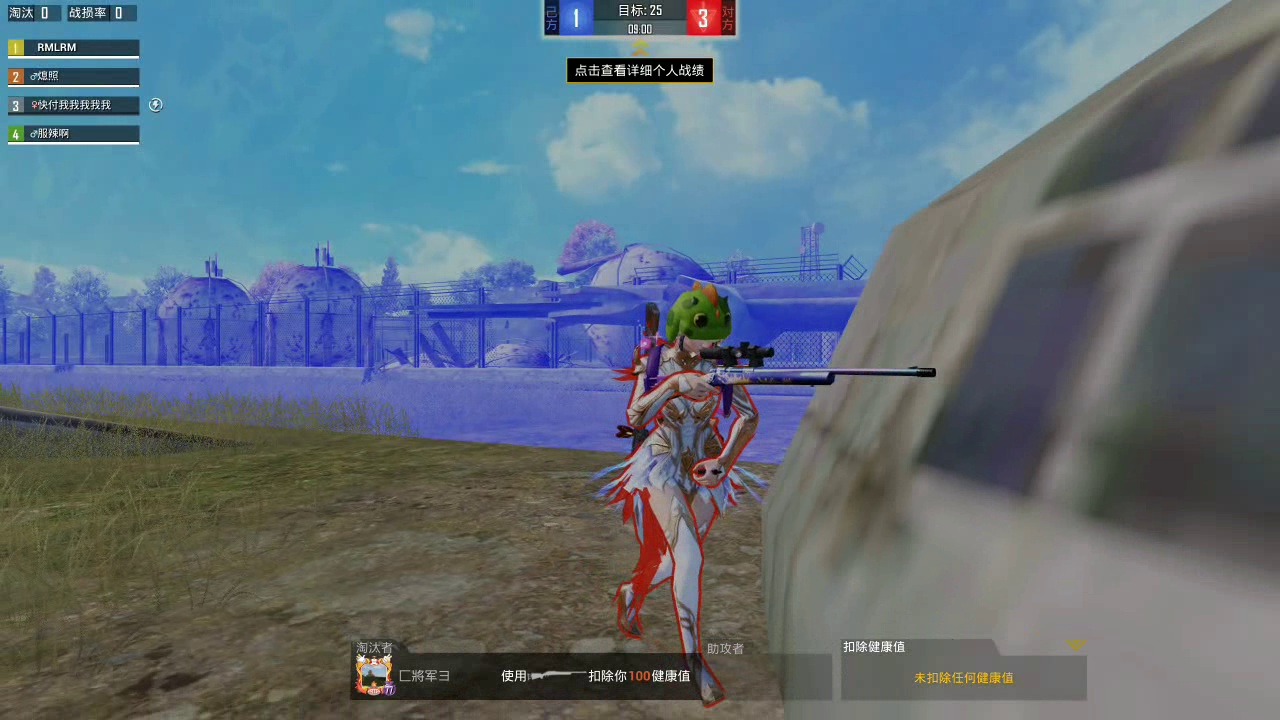enemy: (625, 287, 740, 692)
